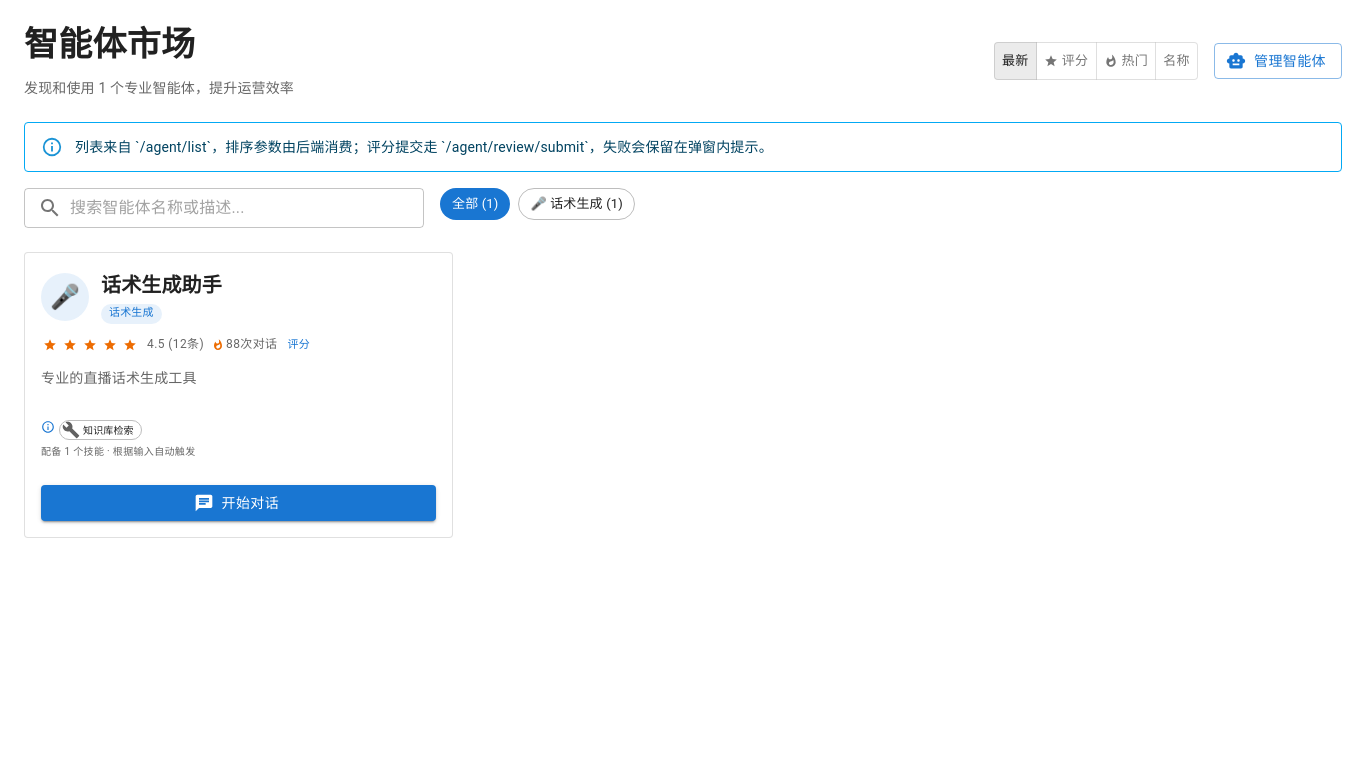
Scenario: AgentMarketPage › shows my review load endpoint while keeping submit available
Expected: the heading "话术生成助手" is shown, [101,273,222,297]
Click the button with aria-label "评价 话术生成助手". click: (299, 345)
box: [286,333,312,356]
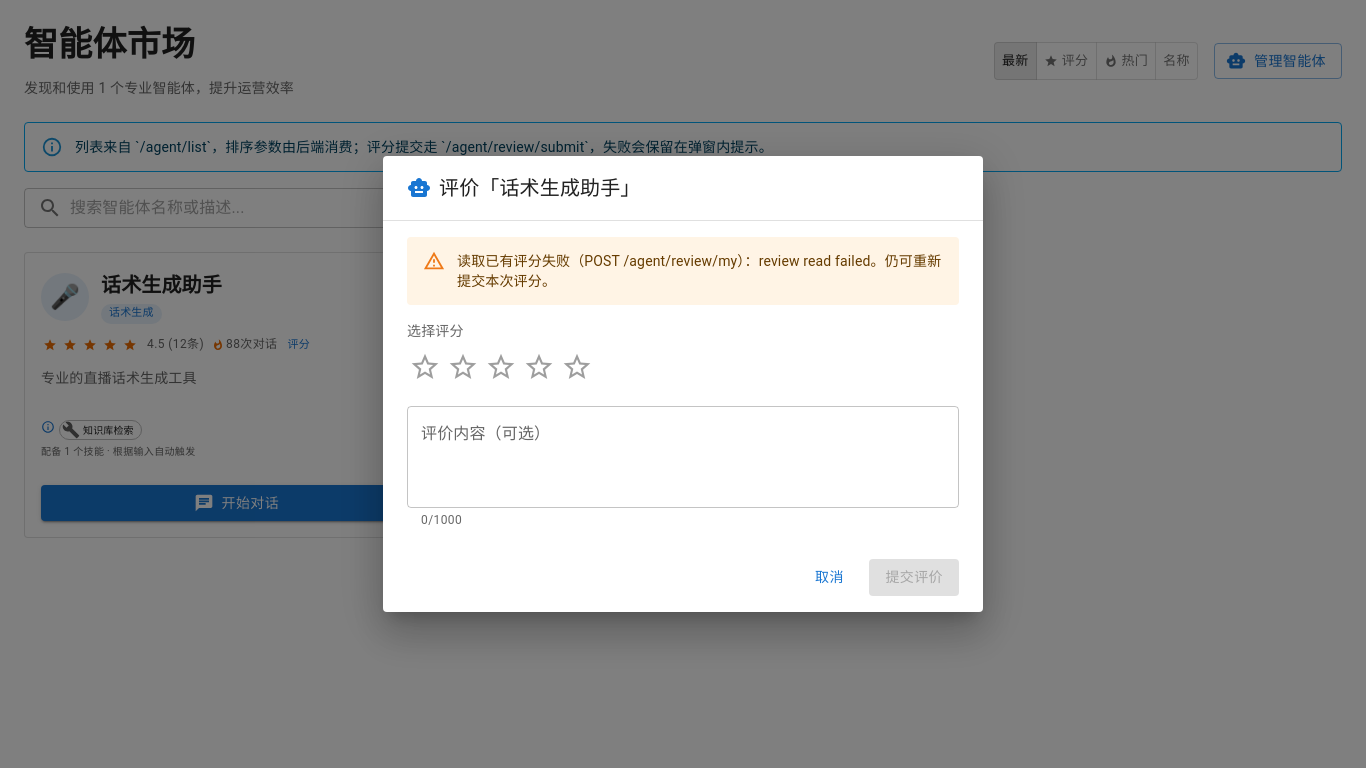
Expected: the message with test id "agent-review-my-error" shows "读取已有评分失败（POST /agent/review/my）：review read failed", [407,237,959,305]
Expected: the button "提交评价" is disabled, [869,559,959,596]
